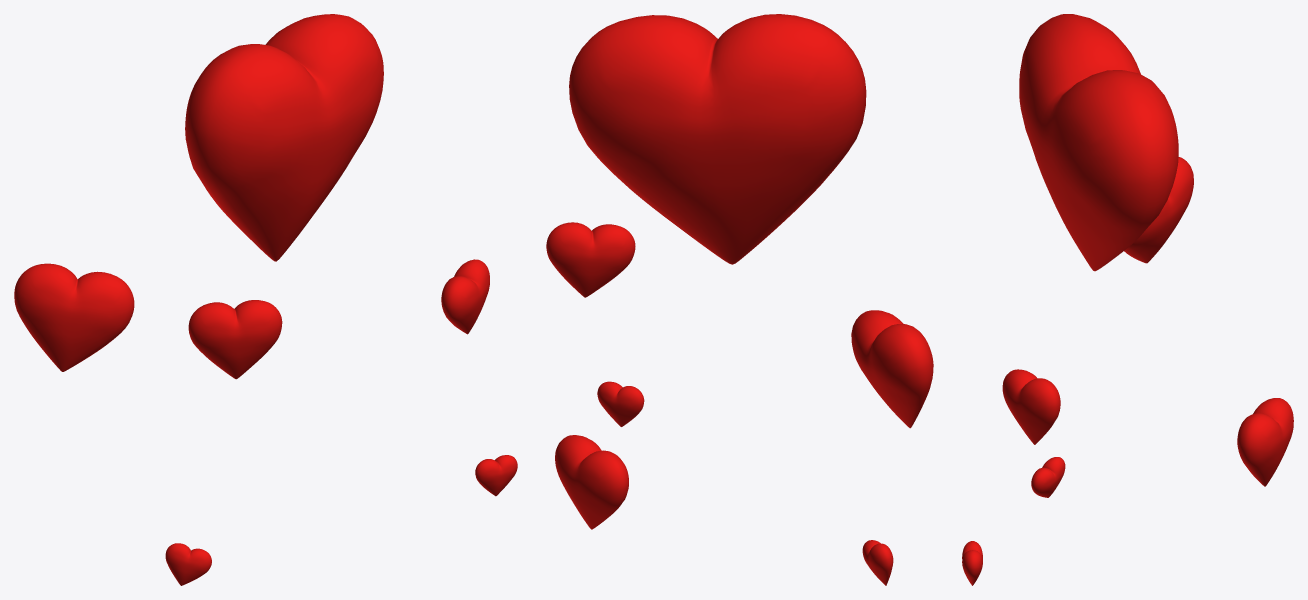
Rendered from Lots of hearts.glb.
The picture shows the model from 3 angles, left to right: view 1: azimuth 30°, elevation 25°; view 2: azimuth 150°, elevation 25°; view 3: azimuth 270°, elevation 25°; orthographic projection. The views are drawn at different scales.
Visible parts, largest first — view 1: emoji_heart_01.3, emoji_heart_05.7, emoji_heart_03.5, emoji_heart_04.6, emoji_heart_06.8, emoji_heart_02.4; view 2: emoji_heart_01.3, emoji_heart_05.7, emoji_heart_04.6, emoji_heart_03.5, emoji_heart_02.4, emoji_heart_06.8; view 3: emoji_heart_01.3, emoji_heart_03.5, emoji_heart_04.6, emoji_heart_05.7, emoji_heart_06.8, emoji_heart_02.4.
Boxes of the visible parts, box(x1,y1,x2,y2) form: emoji_heart_01.3: box(185, 14, 383, 261); emoji_heart_05.7: box(14, 263, 134, 371); emoji_heart_03.5: box(188, 300, 282, 379); emoji_heart_04.6: box(441, 259, 489, 334); emoji_heart_06.8: box(165, 543, 211, 585); emoji_heart_02.4: box(475, 455, 517, 496); emoji_heart_01.3: box(569, 14, 866, 264); emoji_heart_05.7: box(851, 310, 933, 428); emoji_heart_04.6: box(546, 222, 635, 297); emoji_heart_03.5: box(555, 435, 628, 529); emoji_heart_02.4: box(597, 381, 644, 426); emoji_heart_06.8: box(862, 540, 893, 585); emoji_heart_01.3: box(1019, 14, 1178, 271); emoji_heart_03.5: box(1237, 398, 1293, 486); emoji_heart_04.6: box(1002, 369, 1060, 444); emoji_heart_05.7: box(1124, 157, 1193, 263); emoji_heart_06.8: box(1031, 457, 1065, 497); emoji_heart_02.4: box(962, 541, 982, 585).
Size of the model in its own units: 0.0087 by 0.0103 by 0.006.
Materials: 6 (6 with a texture image).
